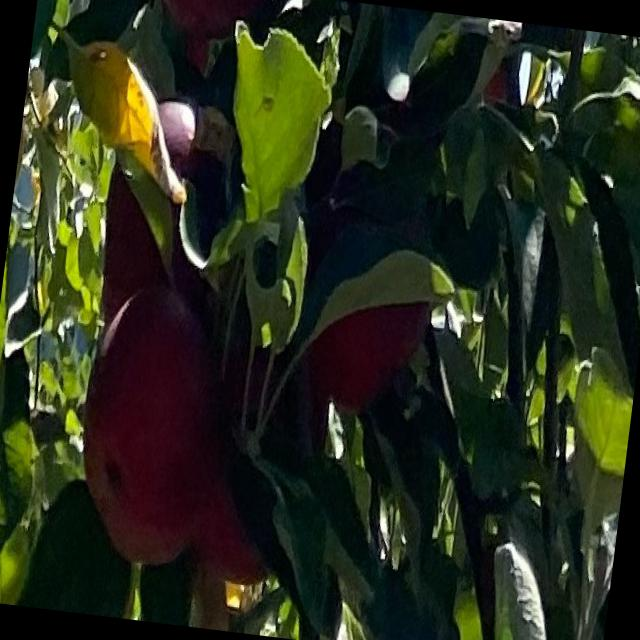Apples: (65, 286, 218, 568), (301, 239, 431, 417), (96, 98, 208, 286), (182, 443, 280, 587), (151, 0, 260, 44)
